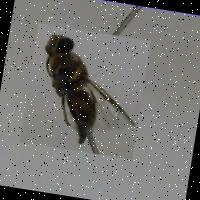Oriental-fruit-fly: (20, 22, 151, 158)
